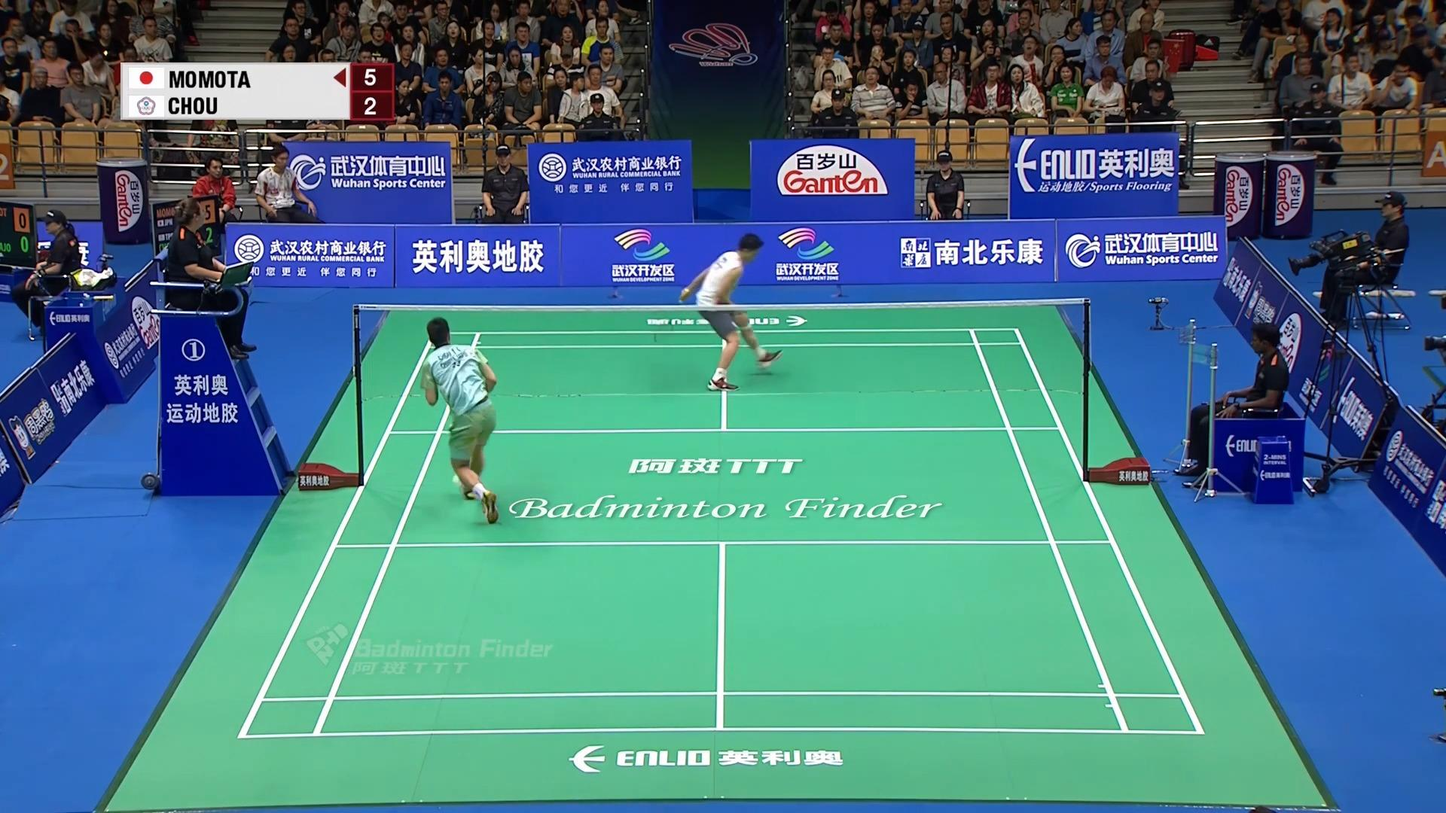player: (421, 317, 500, 525), (680, 233, 782, 391)
